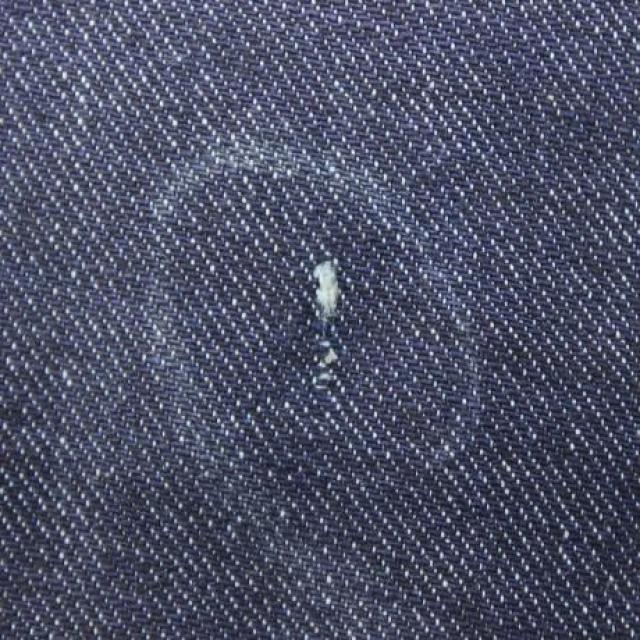Thread_other: (257, 240, 388, 428)
